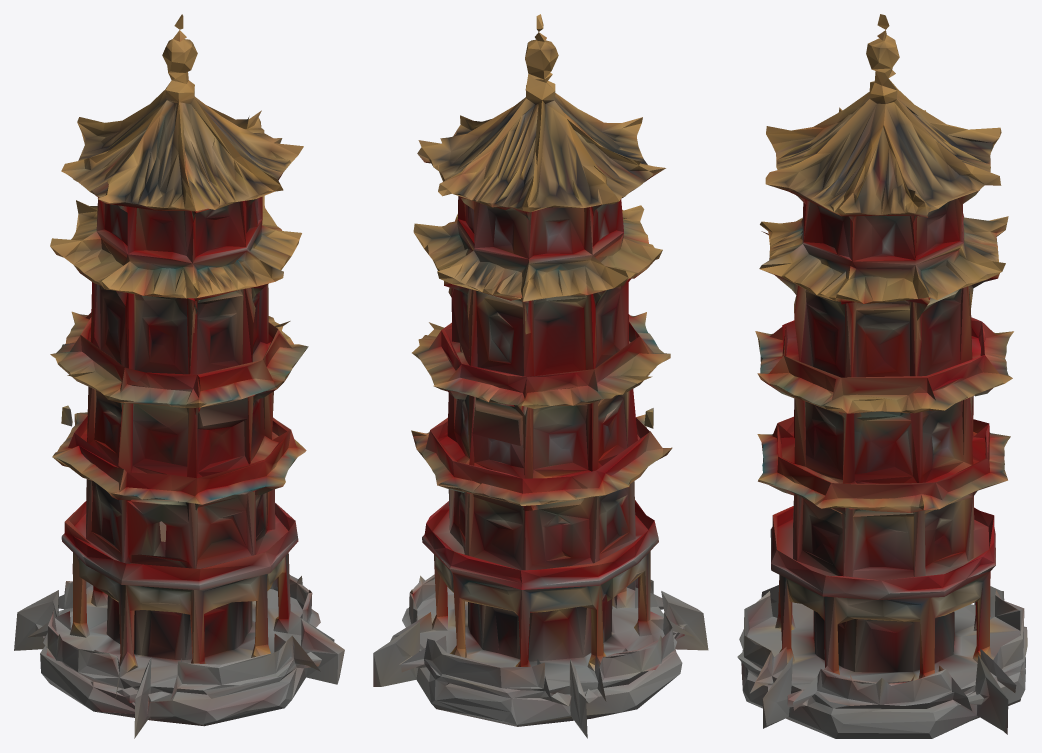
File: tower_nine.vc.glb
The picture shows the model from 3 angles, left to right: view 1: azimuth 30°, elevation 25°; view 2: azimuth 150°, elevation 25°; view 3: azimuth 270°, elevation 25°; orthographic projection. The views are drawn at different scales.
Visible parts, largest first — view 1: tower_nine; view 2: tower_nine; view 3: tower_nine.
Boxes of the visible parts, box(x1,y1,x2,y2) form: tower_nine: box(14, 14, 344, 738); tower_nine: box(373, 14, 708, 738); tower_nine: box(737, 14, 1027, 738).
Bounding box in the file's own units: 0.7536 × 1.9 × 0.7468.
